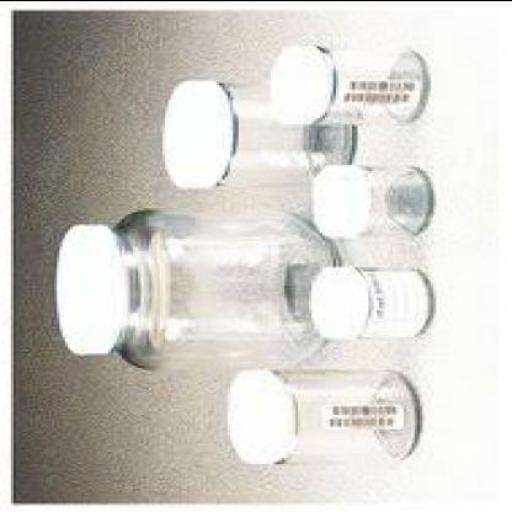glass: (109, 207, 333, 367), (214, 80, 355, 186), (268, 365, 415, 461), (314, 42, 423, 122), (354, 265, 428, 336), (358, 164, 432, 235)
plastic: (51, 222, 127, 352), (159, 76, 236, 184), (226, 365, 296, 461), (268, 43, 330, 121), (312, 162, 376, 236), (306, 260, 368, 336)
